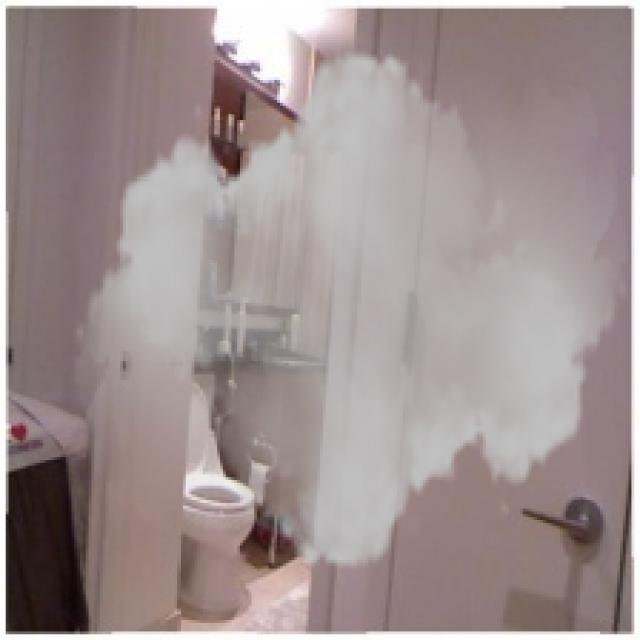smoke: (74, 29, 629, 592)
